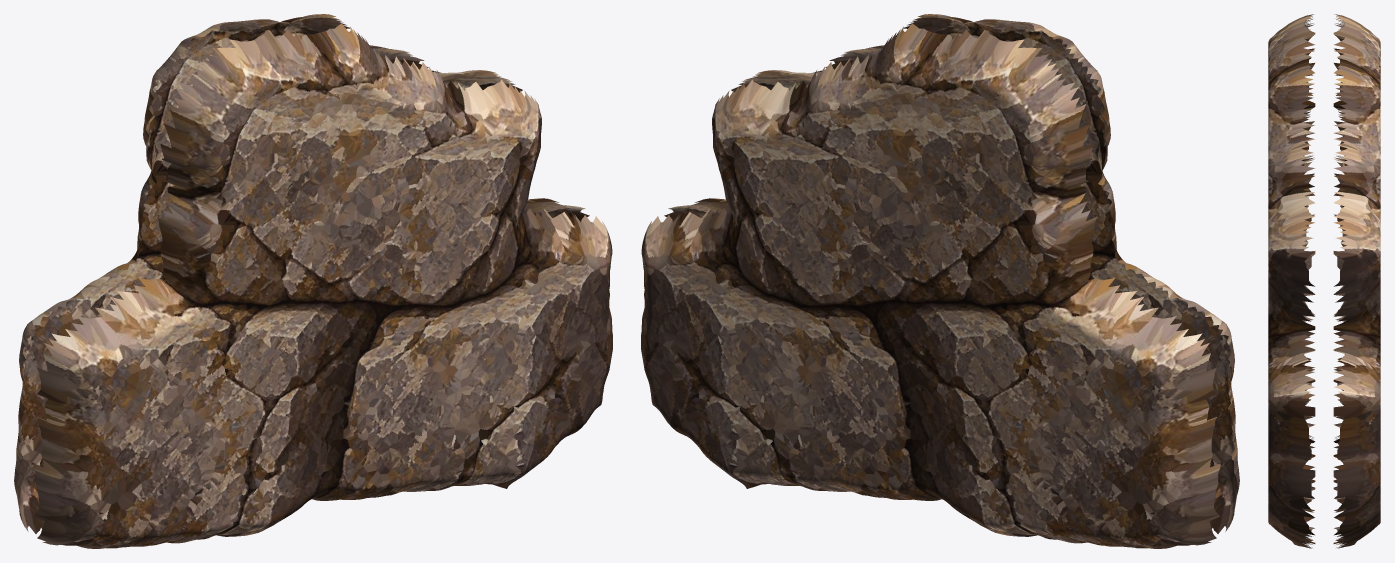
File: v4-crypt-chamber-scatter-rubble.glb
The picture shows the model from 3 angles, left to right: view 1: azimuth 30°, elevation 25°; view 2: azimuth 150°, elevation 25°; view 3: azimuth 270°, elevation 25°; orthographic projection. The views are drawn at different scales.
Parts seen in each view (by area): view 1: v4-crypt-chamber-scatter-rubble; view 2: v4-crypt-chamber-scatter-rubble; view 3: v4-crypt-chamber-scatter-rubble.
Boxes of the visible parts, x1,y1,x2,y2 form: v4-crypt-chamber-scatter-rubble: (14, 14, 612, 548); v4-crypt-chamber-scatter-rubble: (641, 14, 1239, 548); v4-crypt-chamber-scatter-rubble: (1268, 14, 1380, 548).
Size of the model in its own units: 0.8782 by 0.7389 by 0.18.
Materials: 1 (1 with a texture image).
